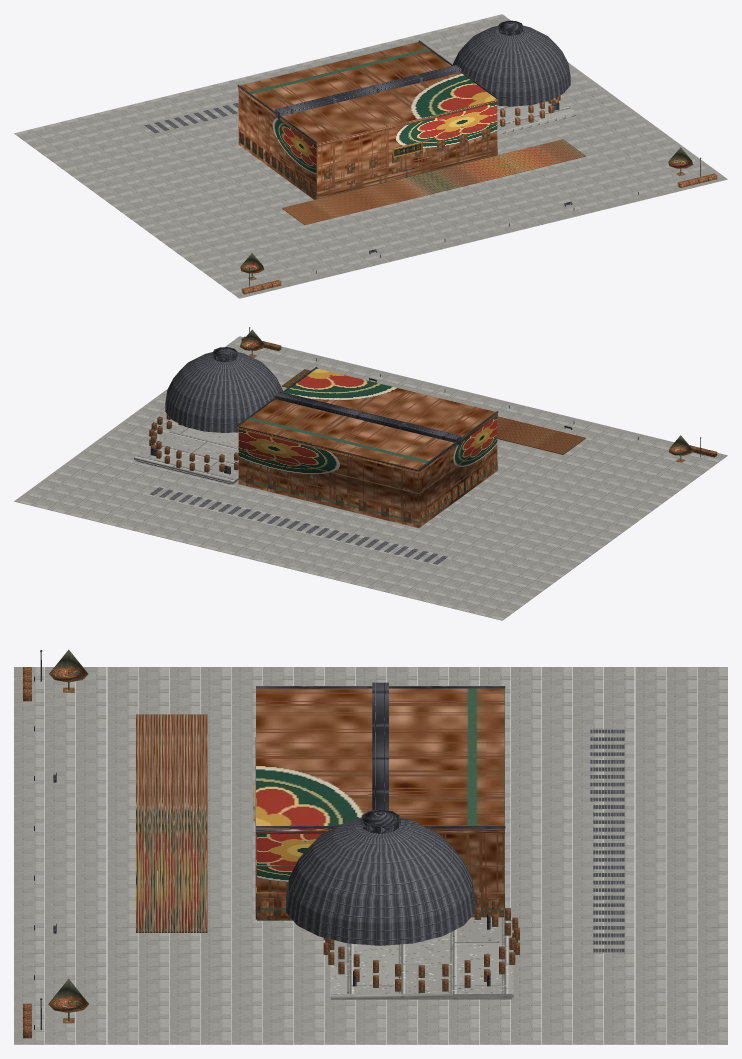
The picture shows the model from 3 angles, top to bottom: view 1: azimuth 30°, elevation 25°; view 2: azimuth 150°, elevation 25°; view 3: azimuth 270°, elevation 25°; orthographic projection. The views are drawn at different scales.
Visible parts, largest first — view 1: 11710_01_05555_023_01__plinth_ground_base, 11710_01_05555_023_02__mass_body_facade, 11710_01_05555_023_03__roof_deck_structure, 11710_01_05555_023_03__roof_metal_ornament, 11710_01_05555_023_05__window_sash_glass, 11710_01_05555_023_06__landscape_greenery; view 2: 11710_01_05555_023_01__plinth_ground_base, 11710_01_05555_023_02__mass_body_facade, 11710_01_05555_023_03__roof_deck_structure, 11710_01_05555_023_03__roof_metal_ornament, 11710_01_05555_023_06__landscape_greenery, 11710_01_05555_023_05__window_sash_glass; view 3: 11710_01_05555_023_01__plinth_ground_base, 11710_01_05555_023_02__mass_body_facade, 11710_01_05555_023_03__roof_deck_structure, 11710_01_05555_023_03__roof_metal_ornament, 11710_01_05555_023_05__window_sash_glass, 11710_01_05555_023_06__landscape_greenery.
Boxes of the visible parts, box(x1,y1,x2,y2) form: 11710_01_05555_023_01__plinth_ground_base: box(14, 14, 727, 298); 11710_01_05555_023_02__mass_body_facade: box(238, 42, 585, 225); 11710_01_05555_023_03__roof_deck_structure: box(144, 25, 570, 133); 11710_01_05555_023_03__roof_metal_ornament: box(237, 20, 523, 143); 11710_01_05555_023_05__window_sash_glass: box(324, 95, 560, 194); 11710_01_05555_023_06__landscape_greenery: box(240, 147, 717, 294); 11710_01_05555_023_01__plinth_ground_base: box(14, 336, 727, 620); 11710_01_05555_023_02__mass_body_facade: box(238, 368, 585, 527); 11710_01_05555_023_03__roof_deck_structure: box(149, 352, 447, 564); 11710_01_05555_023_03__roof_metal_ornament: box(212, 347, 498, 469); 11710_01_05555_023_06__landscape_greenery: box(239, 329, 717, 462); 11710_01_05555_023_05__window_sash_glass: box(149, 414, 238, 472); 11710_01_05555_023_01__plinth_ground_base: box(14, 667, 727, 1044); 11710_01_05555_023_02__mass_body_facade: box(136, 688, 504, 932); 11710_01_05555_023_03__roof_deck_structure: box(286, 729, 624, 952); 11710_01_05555_023_03__roof_metal_ornament: box(256, 682, 505, 833); 11710_01_05555_023_05__window_sash_glass: box(255, 737, 519, 992); 11710_01_05555_023_06__landscape_greenery: box(23, 649, 88, 1038).
Size of the model in its own units: 130 by 24.73 by 104.
7 materials, 7 textured.
